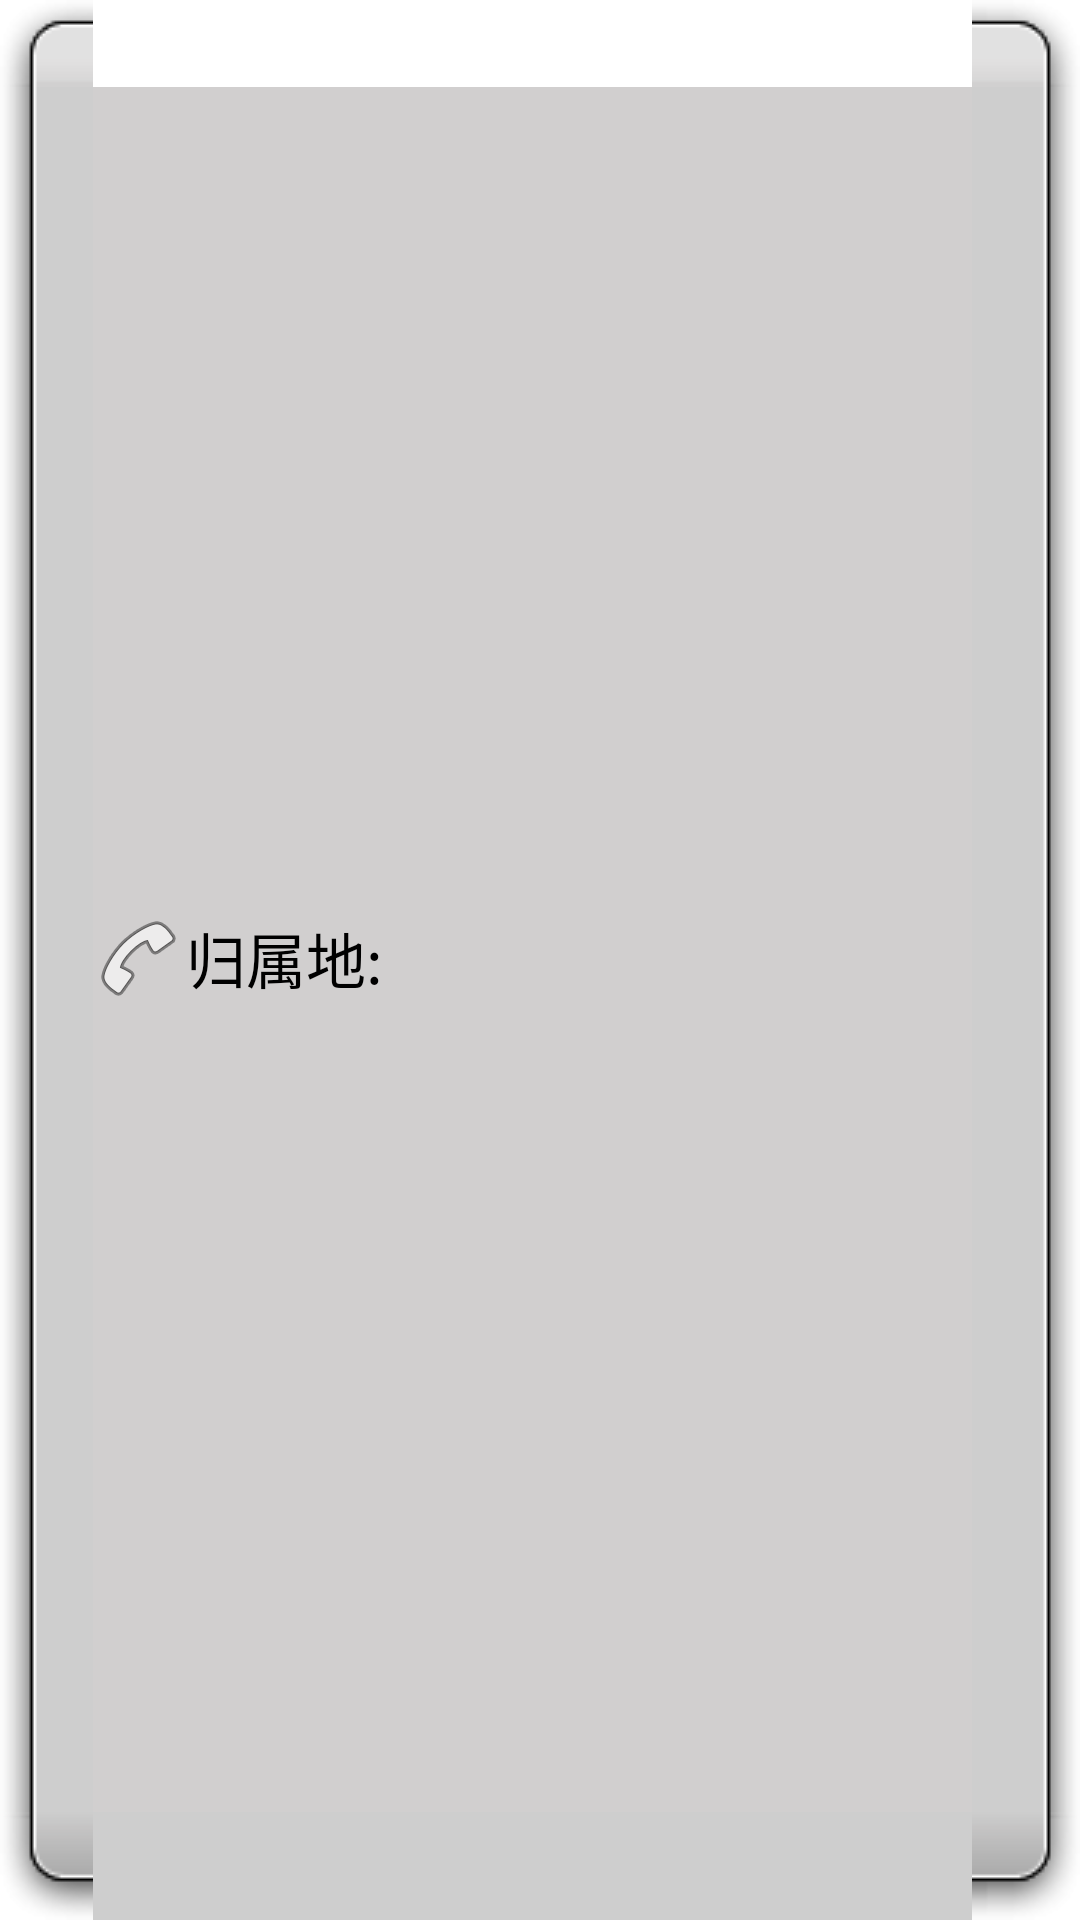

Locate icon controls on the screen. Image size 1080*1920, boxes as bbox=(x1, y1, x2, y2).
call: bbox=(101, 921, 176, 996)
